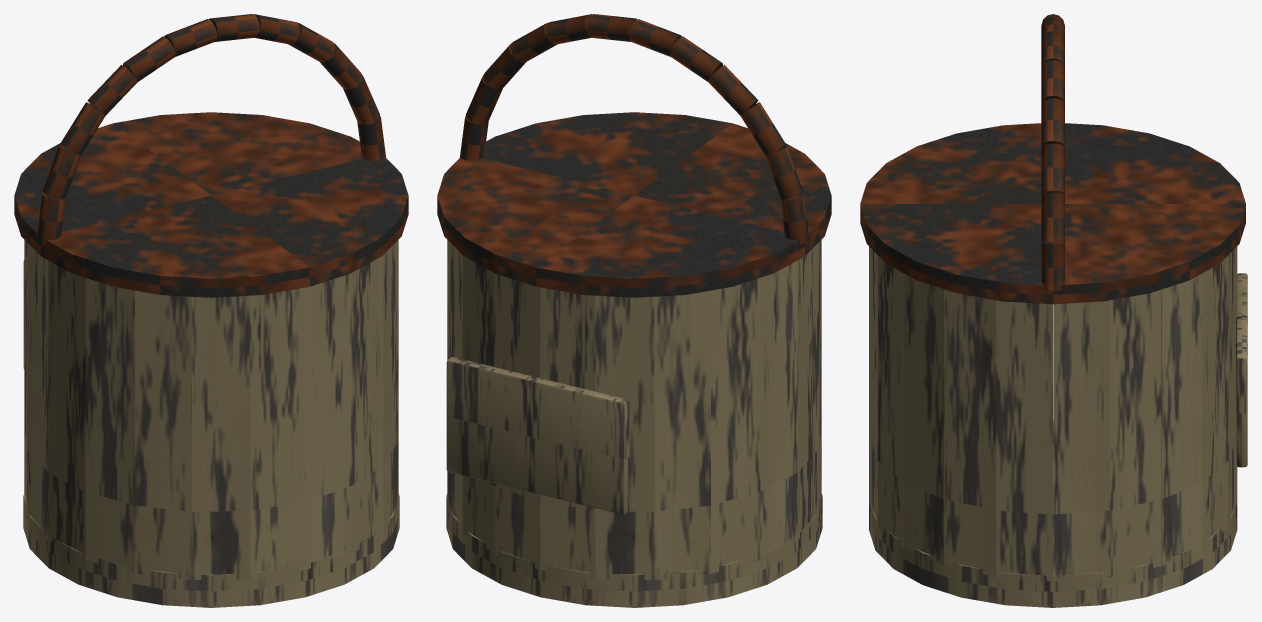
File: SM_PaintCan_Closed_6cdcf9574c.fbx
3 views of the same model, side by side, from view 1: azimuth 30°, elevation 25°; view 2: azimuth 150°, elevation 25°; view 3: azimuth 270°, elevation 25° (orthographic). The views are drawn at different scales.
Parts seen in each view (by area): view 1: SM_PaintCan_Closed_6cdcf9574c; view 2: SM_PaintCan_Closed_6cdcf9574c; view 3: SM_PaintCan_Closed_6cdcf9574c.
Part boxes in pixels (left/top/right/bottom): SM_PaintCan_Closed_6cdcf9574c: left=14, top=14, right=408, bottom=607; SM_PaintCan_Closed_6cdcf9574c: left=437, top=14, right=831, bottom=607; SM_PaintCan_Closed_6cdcf9574c: left=860, top=14, right=1247, bottom=607.
Size of what is drawn, in the model's own units: 26.58 by 26.29 by 37.29.
2 materials, 2 textured.
